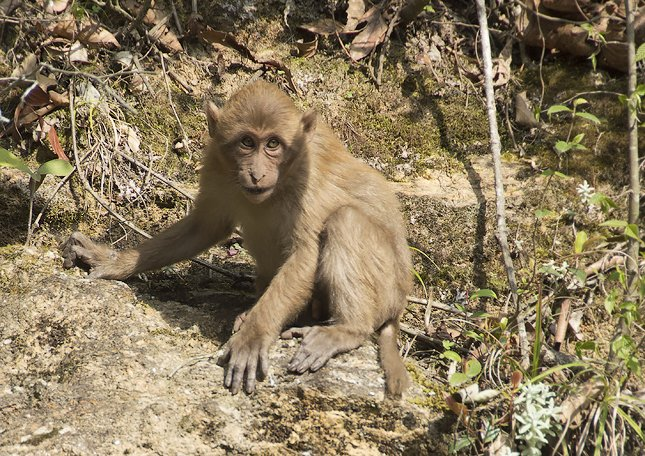monkey: (69, 68, 432, 397)
